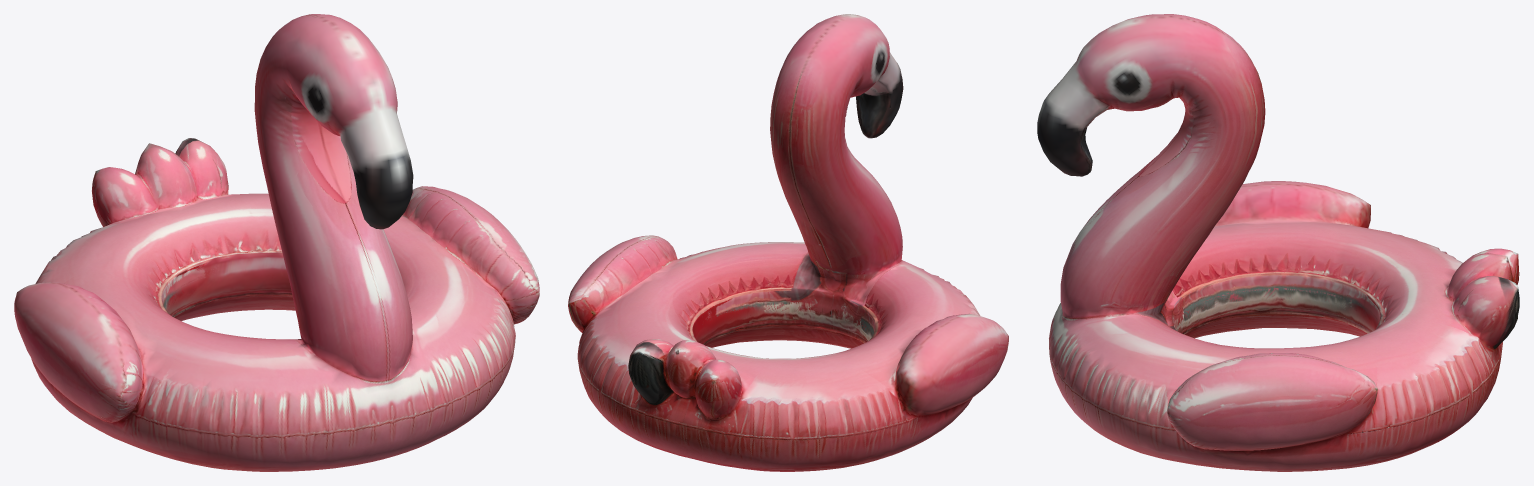
The model's file is prop_flamingo.fbx.
3 renders of one model, left to right at view 1: azimuth 30°, elevation 25°; view 2: azimuth 150°, elevation 25°; view 3: azimuth 270°, elevation 25°, orthographic. The views are drawn at different scales.
Visible parts, largest first — view 1: texture_mapping; view 2: texture_mapping; view 3: texture_mapping.
Part boxes in pixels (x1,y1,x2,y2): texture_mapping: (14, 14, 539, 471); texture_mapping: (568, 14, 1008, 471); texture_mapping: (1037, 14, 1519, 471).
Size of the model in its own units: 1 by 0.989 by 0.8632.
Materials: 1 (1 with a texture image).
